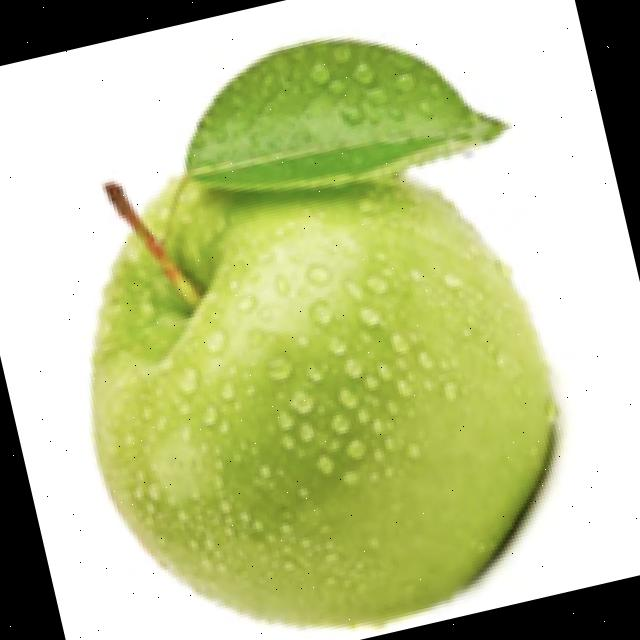apple: (84, 30, 570, 633)
